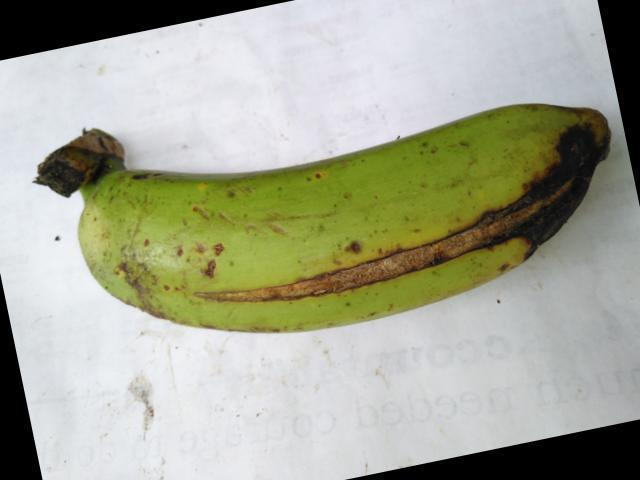rotten: (194, 124, 606, 333)
